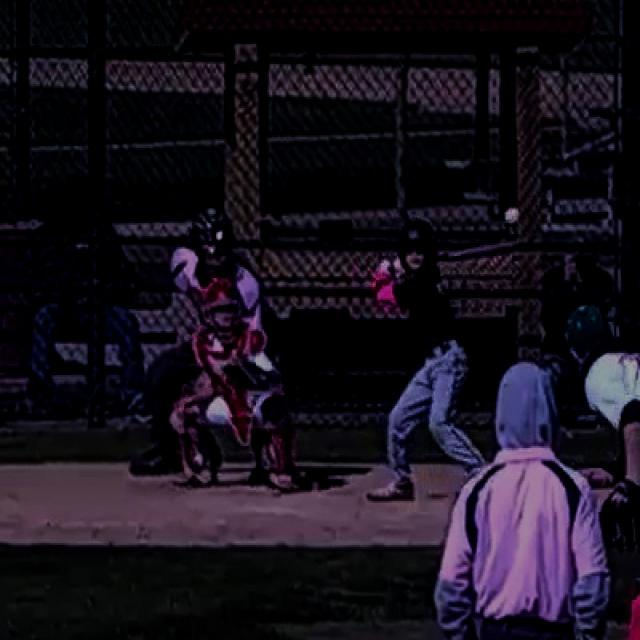baseball: (505, 208, 519, 223)
